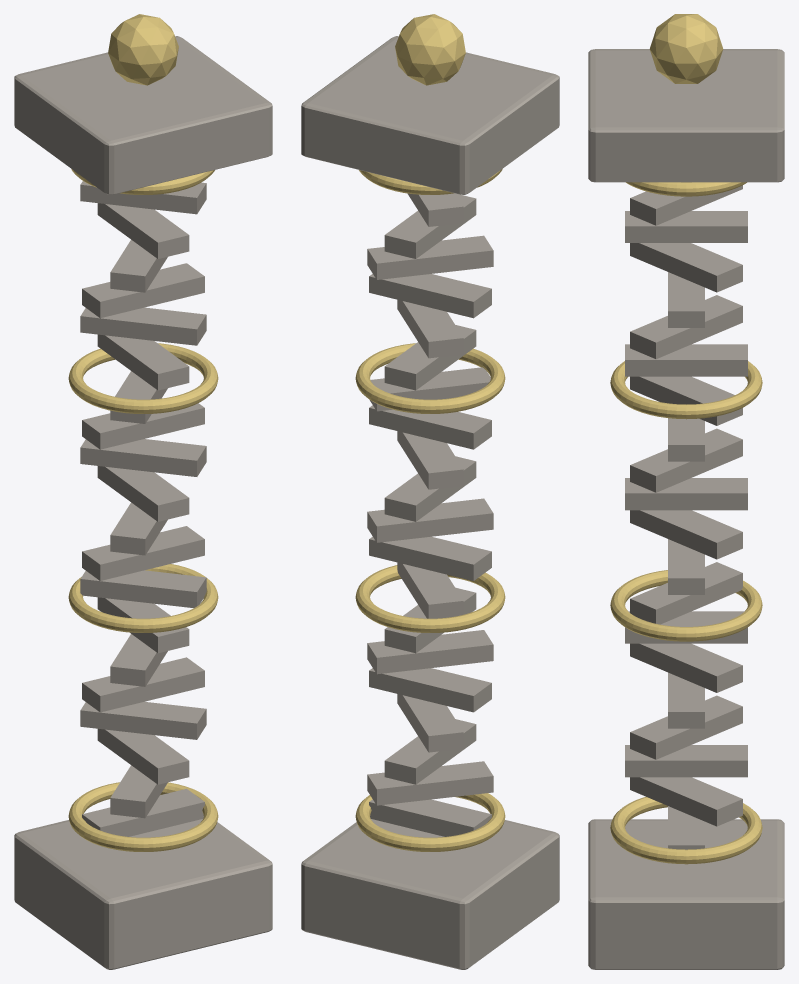
File: decorative_pillar.fbx
3 renders of one model, left to right at view 1: azimuth 30°, elevation 25°; view 2: azimuth 150°, elevation 25°; view 3: azimuth 270°, elevation 25°, orthographic.
Parts seen in each view (by area): view 1: DecPillarBase, DecPillarTop, DecPillarOrb, DecRing_2.5, DecRing_0.5, DecSeg_3, DecSeg_15, DecSeg_11, DecSeg_7, DecSeg_4, DecSeg_16, DecSeg_8 (+15 smaller); view 2: DecPillarBase, DecPillarTop, DecPillarOrb, DecRing_2.5, DecRing_1.5, DecSeg_1, DecSeg_5, DecSeg_9, DecSeg_17, DecSeg_4, DecSeg_8, DecSeg_16 (+15 smaller); view 3: DecPillarBase, DecPillarTop, DecPillarOrb, DecRing_1.5, DecSeg_10, DecSeg_2, DecRing_0.5, DecSeg_14, DecSeg_18, DecSeg_5, DecSeg_1, DecSeg_9 (+15 smaller).
Part boxes in pixels (x1,y1,x2,y2): DecPillarBase: [14, 819, 272, 969]; DecPillarTop: [14, 36, 272, 194]; DecPillarOrb: [108, 14, 178, 85]; DecRing_2.5: [68, 343, 218, 413]; DecRing_0.5: [68, 782, 218, 851]; DecSeg_3: [80, 701, 206, 739]; DecSeg_15: [80, 307, 206, 345]; DecSeg_11: [80, 439, 206, 476]; DecSeg_7: [80, 570, 206, 608]; DecSeg_4: [82, 657, 204, 712]; DecSeg_16: [82, 263, 204, 318]; DecSeg_8: [82, 526, 204, 580]; DecPillarBase: [301, 819, 559, 969]; DecPillarTop: [301, 36, 559, 194]; DecPillarOrb: [395, 14, 465, 85]; DecRing_2.5: [355, 343, 505, 413]; DecRing_1.5: [355, 565, 505, 632]; DecSeg_1: [367, 761, 493, 805]; DecSeg_5: [367, 630, 493, 674]; DecSeg_9: [367, 498, 493, 542]; DecSeg_17: [367, 235, 493, 279]; DecSeg_4: [369, 668, 491, 712]; DecSeg_8: [369, 536, 491, 580]; DecSeg_16: [369, 274, 491, 318]; DecPillarBase: [588, 819, 784, 969]; DecPillarTop: [588, 49, 784, 182]; DecPillarOrb: [649, 14, 723, 83]; DecRing_1.5: [610, 570, 762, 641]; DecSeg_10: [625, 478, 747, 510]; DecSeg_2: [625, 745, 747, 777]; DecRing_0.5: [610, 797, 762, 864]; DecSeg_14: [625, 344, 747, 376]; DecSeg_18: [625, 211, 747, 242]; DecSeg_5: [630, 643, 742, 692]; DecSeg_1: [630, 777, 742, 826]; DecSeg_9: [630, 510, 742, 559].
Size of the model in its own units: 0.8 by 0.8 by 4.11.
